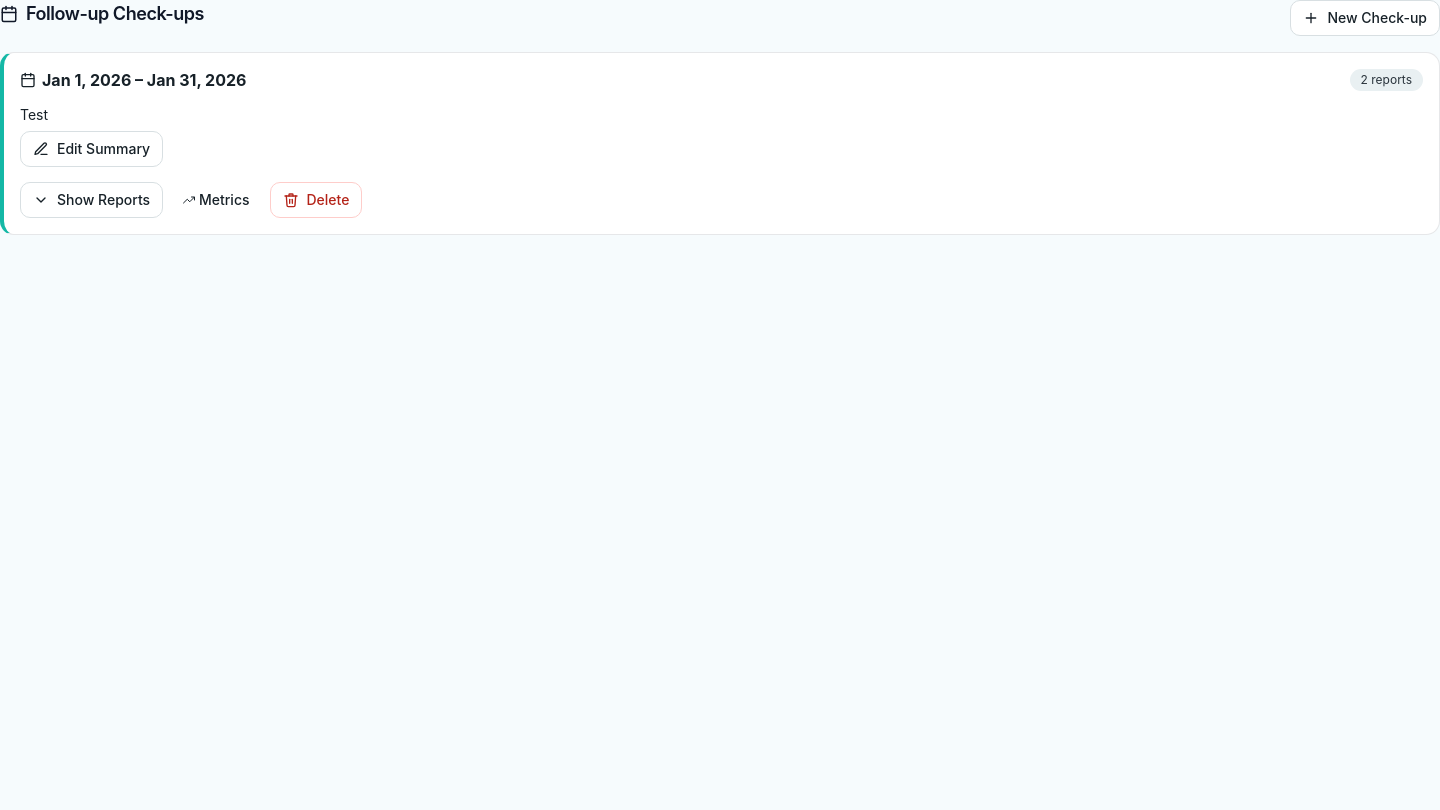
Test: FollowupCheckupPanel › Metrics button › clicking Metrics button opens FollowupMetricsModal
The width and height of the screenshot is (1440, 810).
Click the button "Metrics".
click(216, 200)  # box [171,182,262,218]
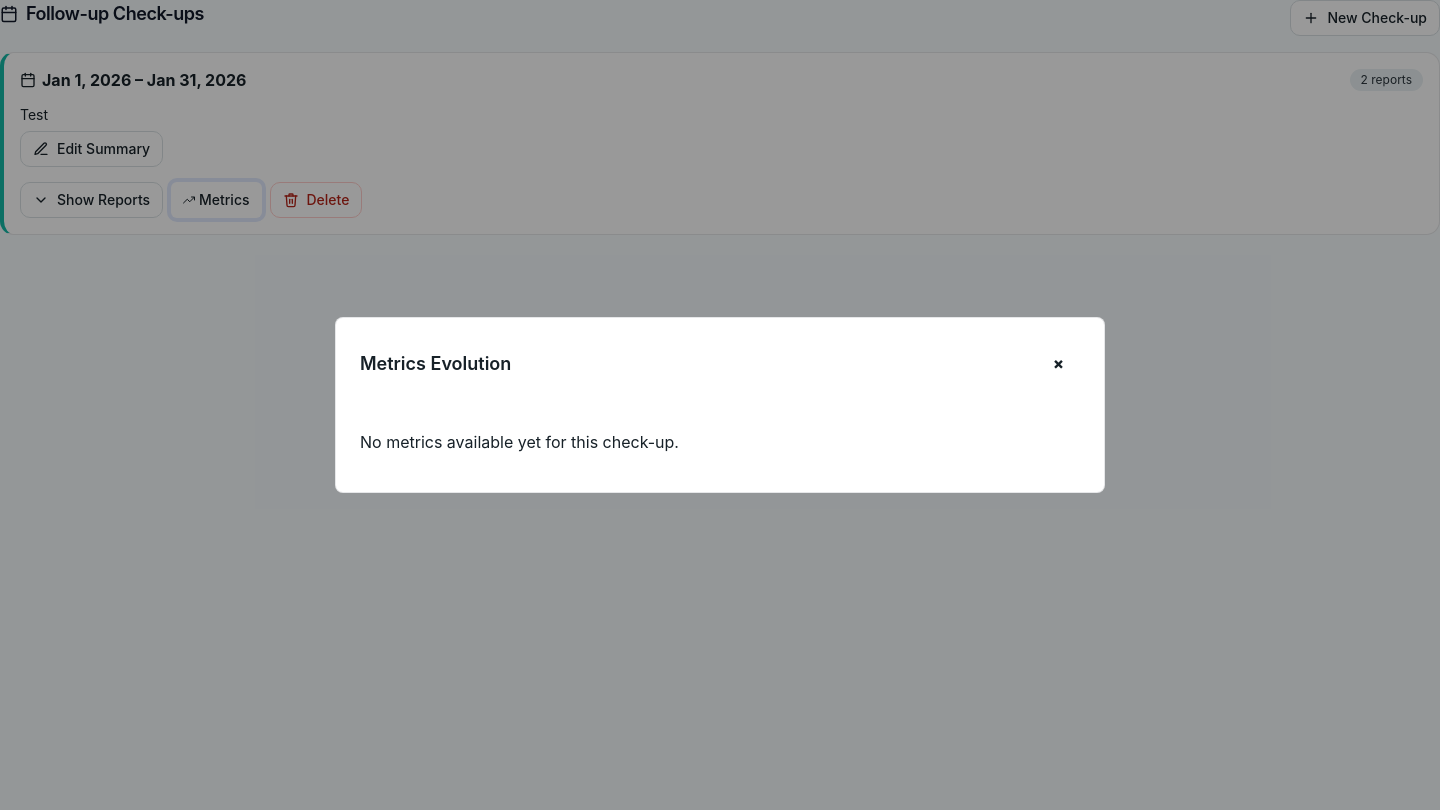
Check: the element with class "modal-overlay" is shown
